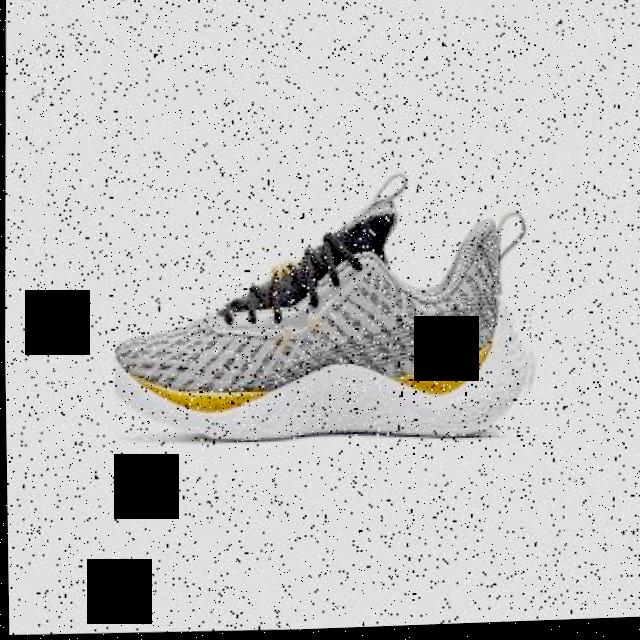shoe: (110, 169, 540, 450)
